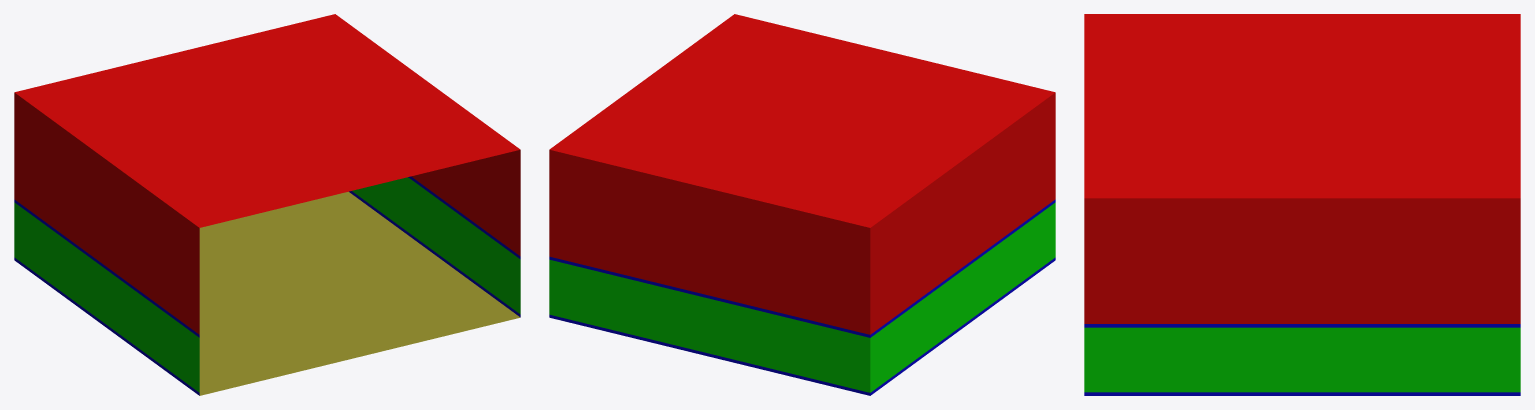
The model's file is SM_Room6x6.fbx.
3 renders of one model, left to right at view 1: azimuth 30°, elevation 25°; view 2: azimuth 150°, elevation 25°; view 3: azimuth 270°, elevation 25°, orthographic. The views are drawn at different scales.
Parts seen in each view (by area): view 1: SM_Room6x6; view 2: SM_Room6x6; view 3: SM_Room6x6.
Part boxes in pixels (<box>): SM_Room6x6: <box>14,14,520,395</box>; SM_Room6x6: <box>549,14,1055,395</box>; SM_Room6x6: <box>1084,14,1520,395</box>.
Bounding box in the file's own units: 550 × 275 × 550.
